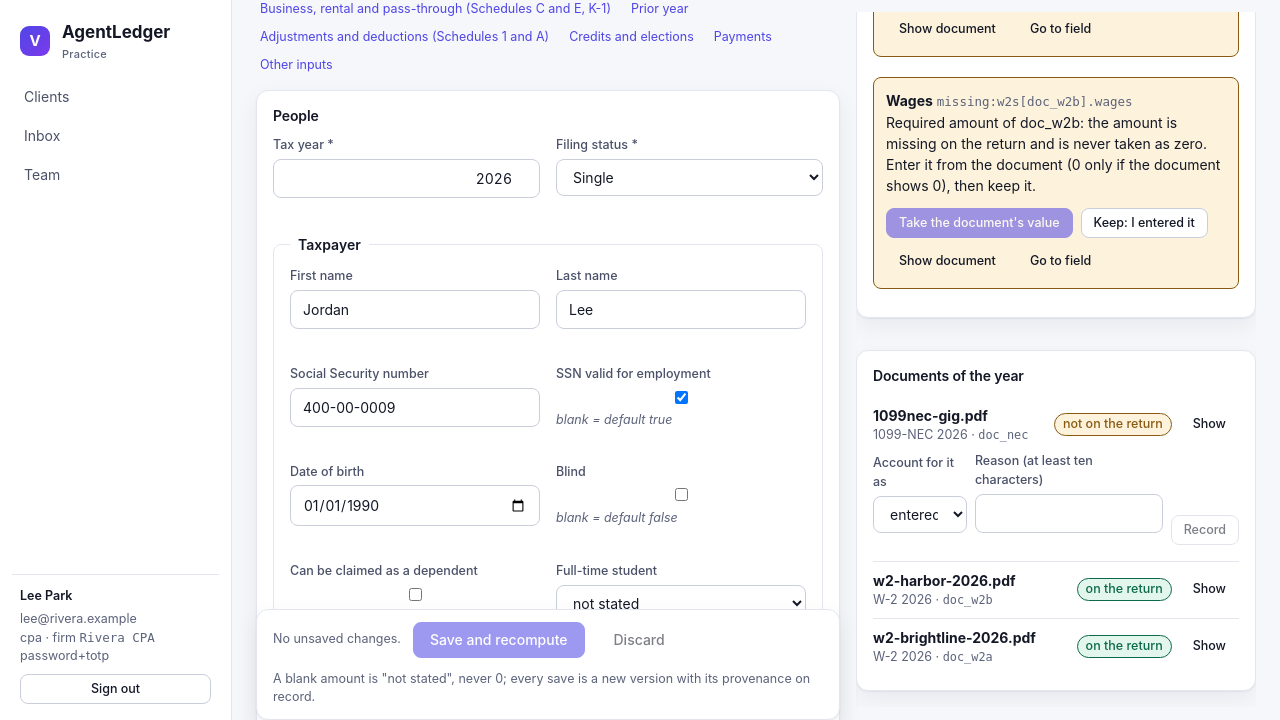
Scenario: conflicts and dispositions › records a disposition for a filed document the return does not use
The image size is (1280, 720).
(page scrolled)
Expected: the element with test id "year-doc-doc_nec" shows "not on the return", [1063,416,1163,431]
Expected: the element with test id "year-doc-doc_w2a" shows "on the return", [1086,638,1163,653]
Select "entered by hand" in the dropdown labelled "Account for it as": coordinates (920, 515) [873,496,967,533]
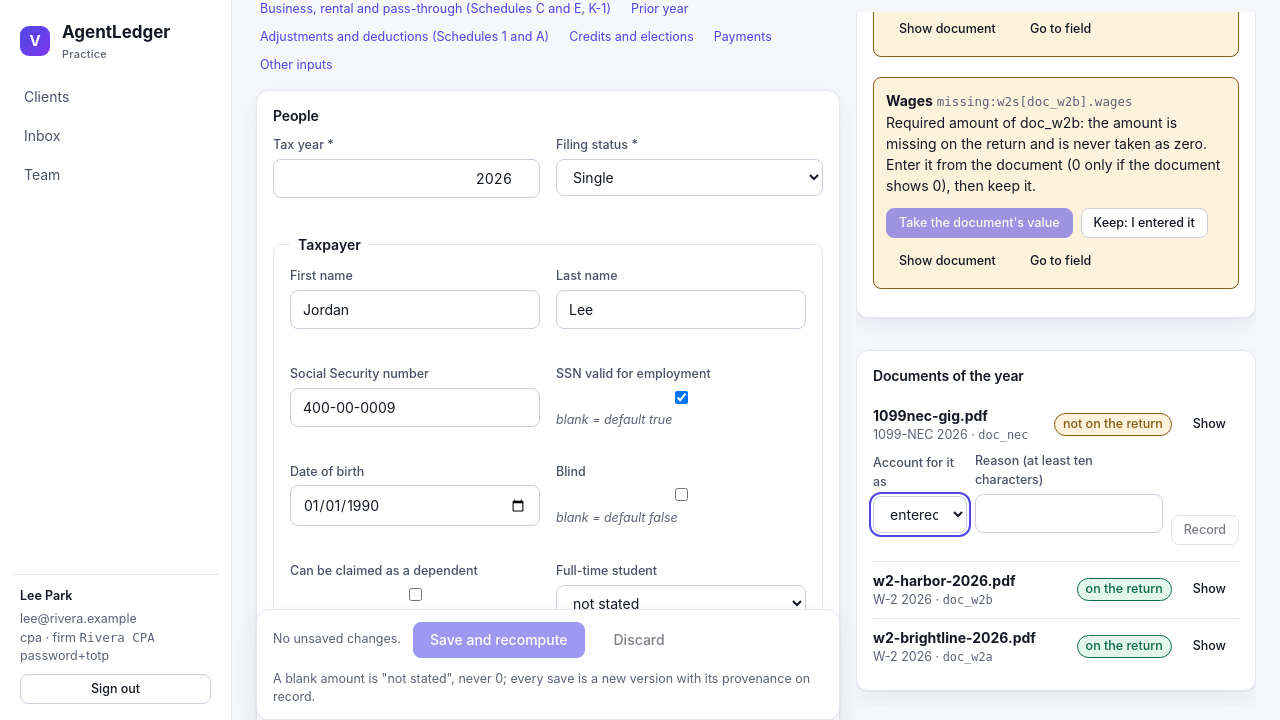
In the field labelled "Reason (at least ten characters)": coordinates (1069, 514) [975,494,1163,533], type "entered on Schedule C line 1 from the 1099-NEC"
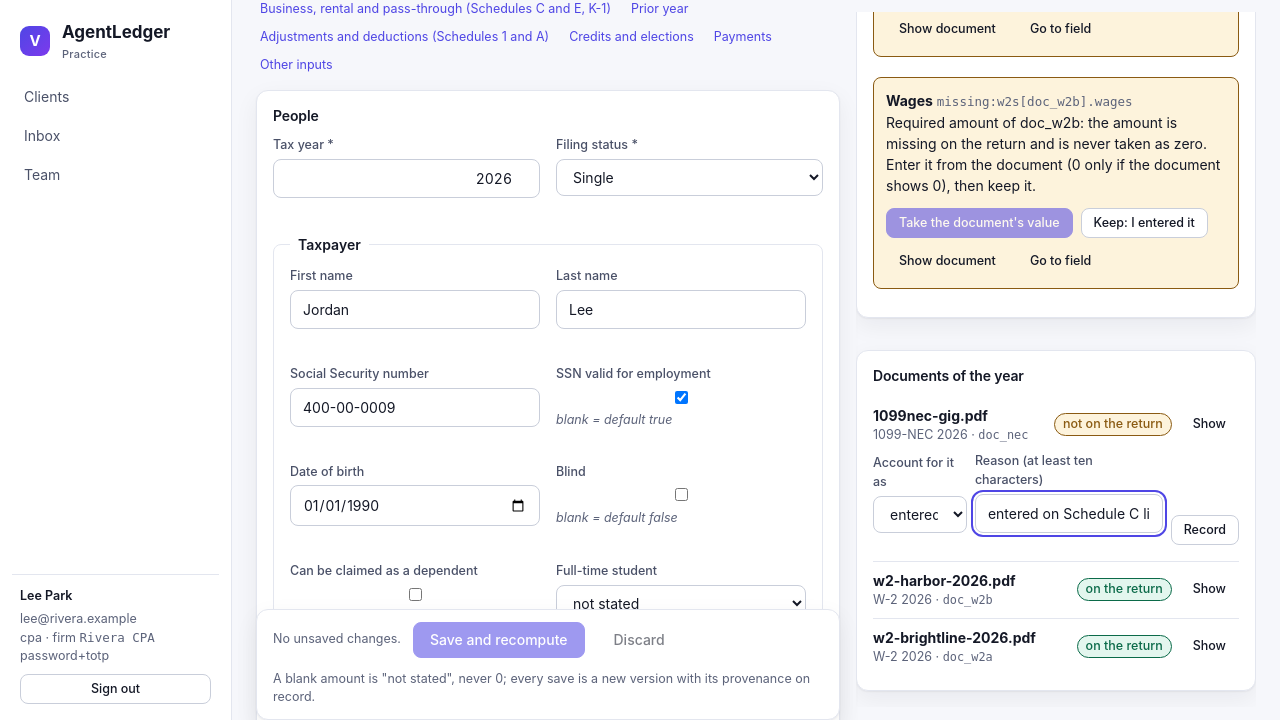
Click the button "Record": coordinates (1205, 530) [1171,515,1239,545]
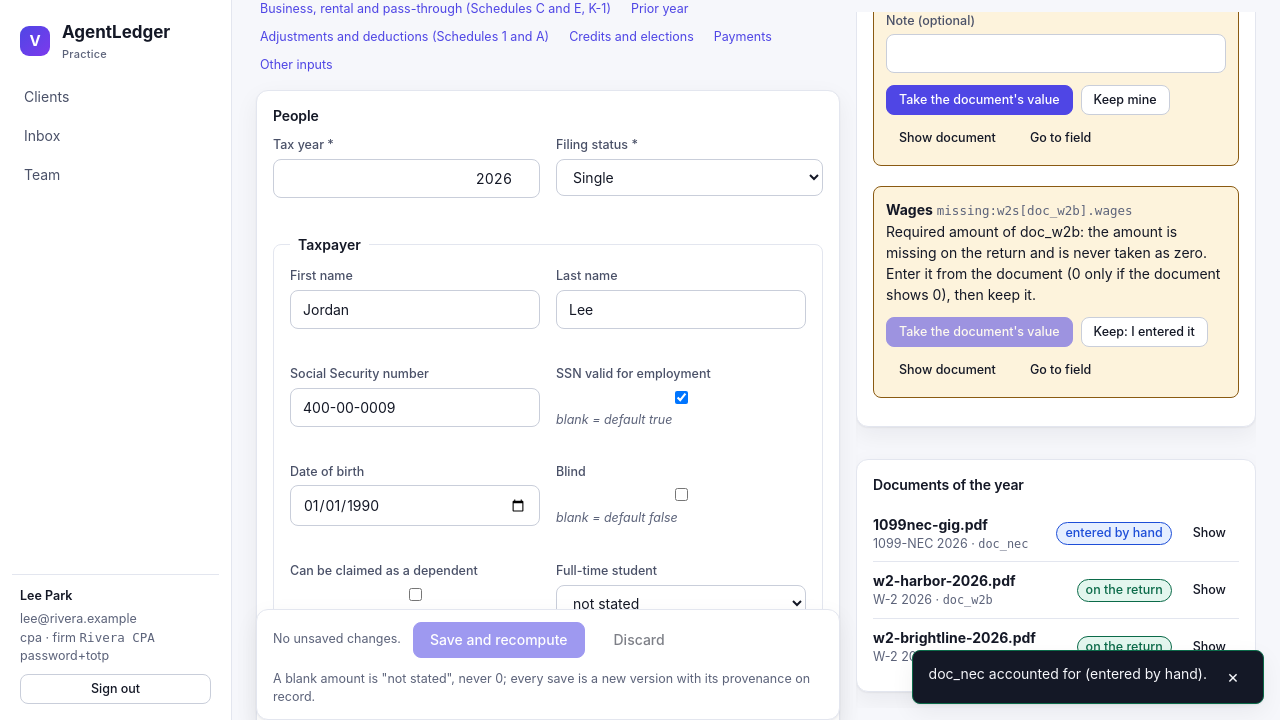
Now the element with test id "year-doc-doc_nec" shows "entered by hand", box [1066,525,1163,540]
